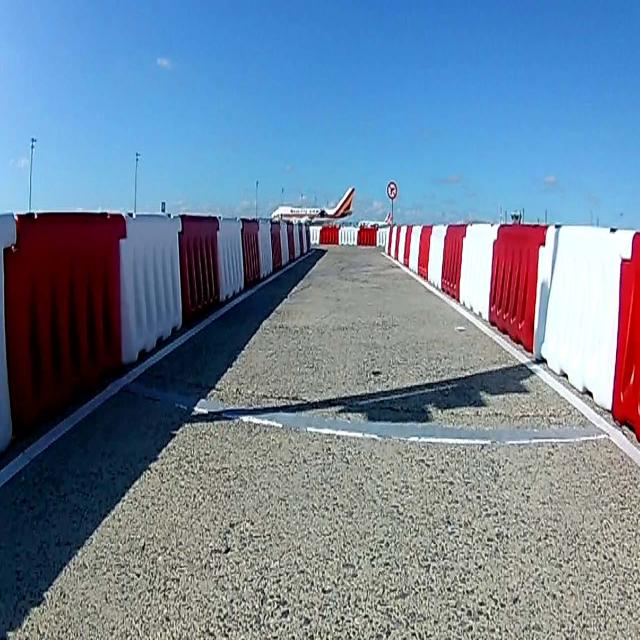sagadonulmez: (386, 180, 398, 200)
